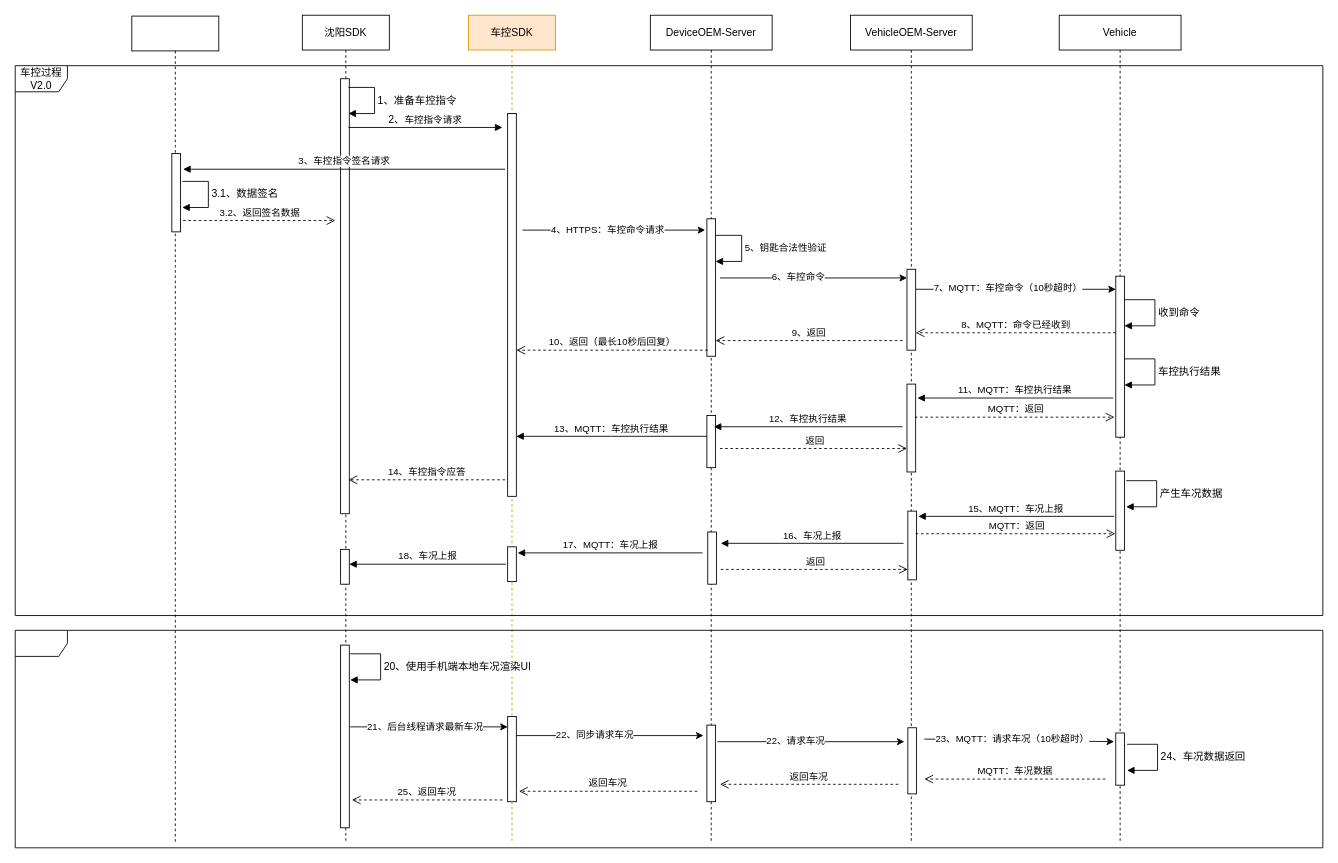
Image size: 1338x863. Some labels were removed from this diagram. The shapes that lost their labels are listed below. From the top down, each one's box as (x1, y1, x2, y2) in pixels, then its label:
(131, 15, 219, 842): SESDK
(14, 629, 1323, 848): 主动请求车况
